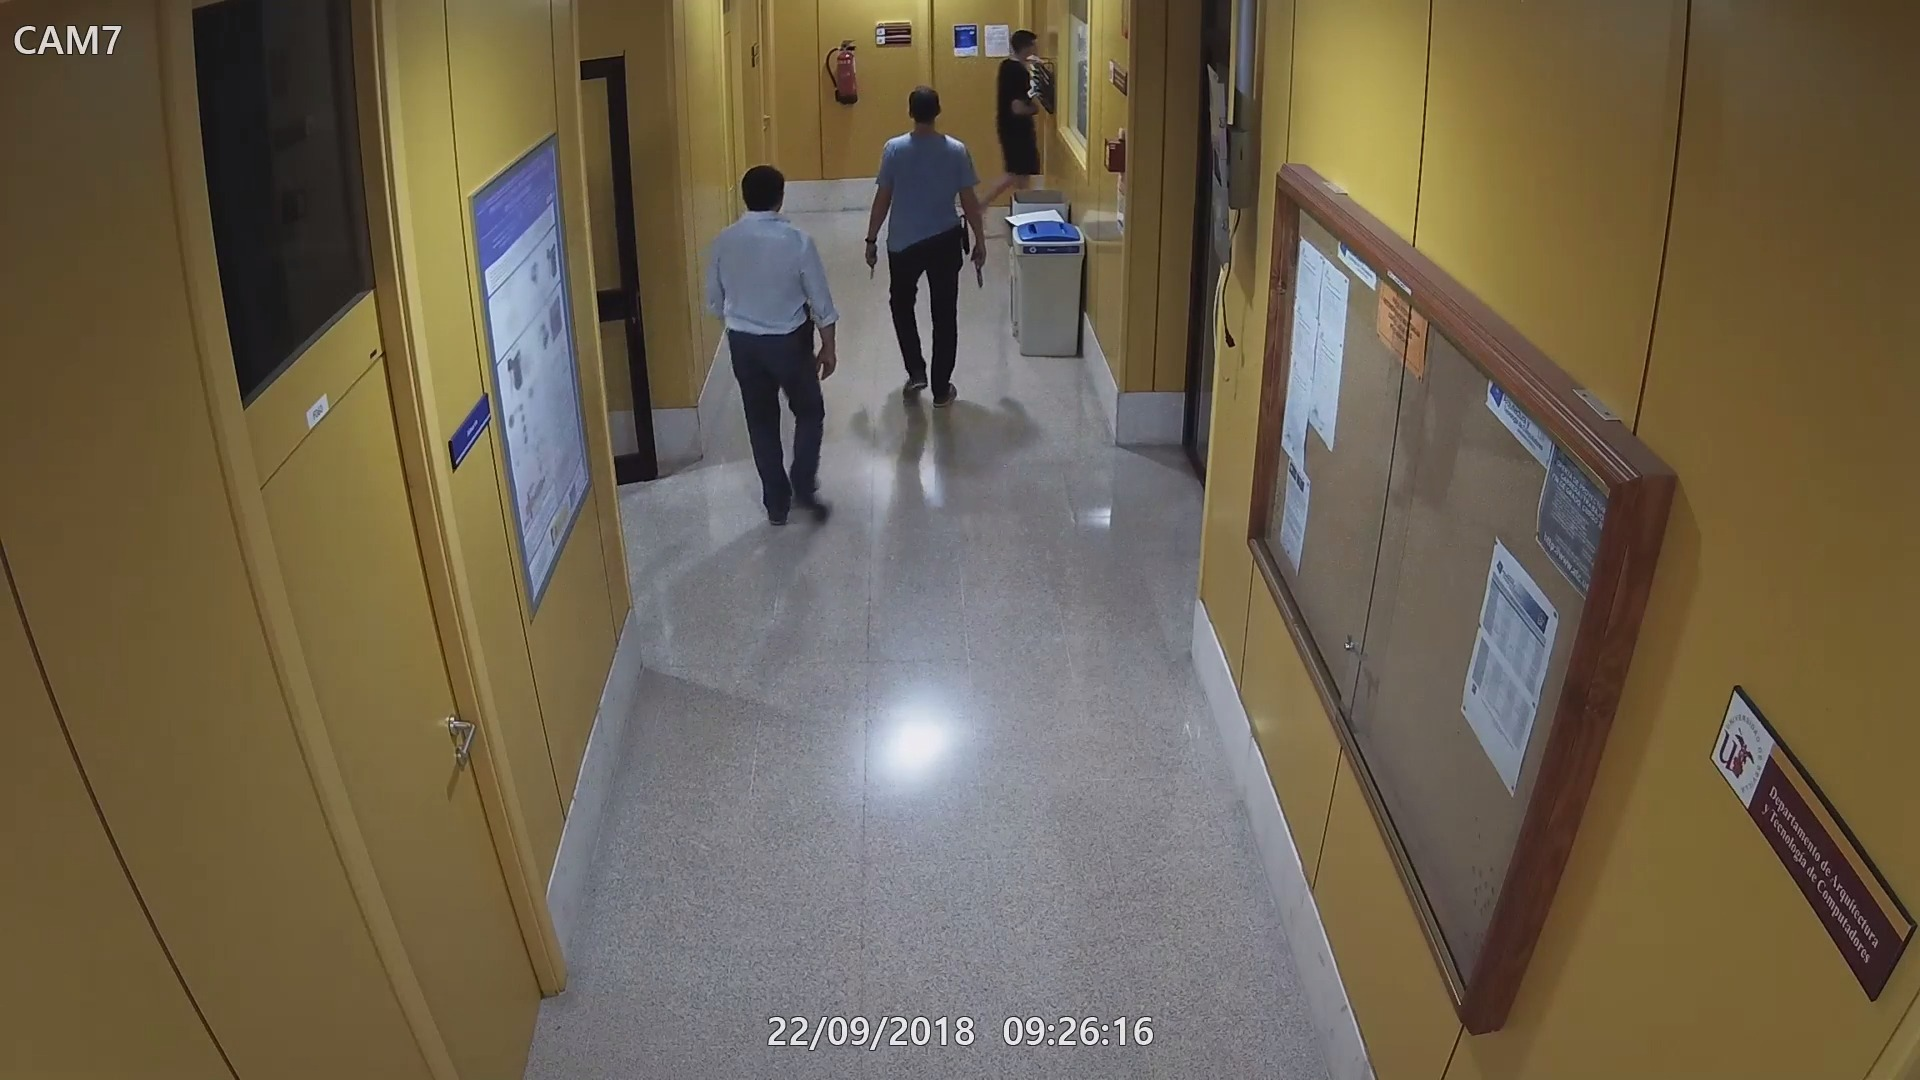Handgun: (967, 243, 993, 291), (796, 298, 822, 342)
Knife: (864, 247, 880, 281)
